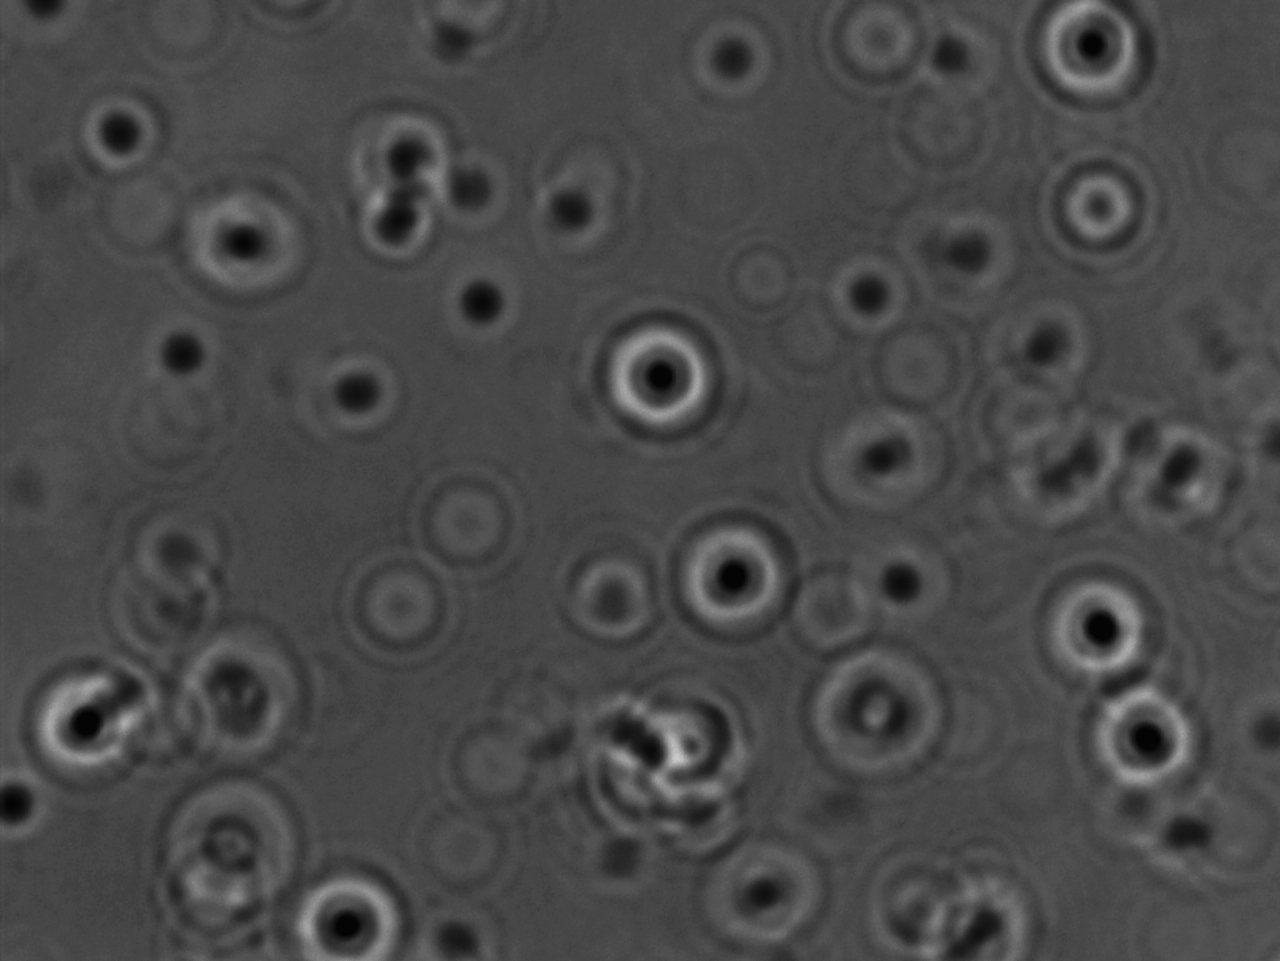depth:-24: (1018, 548, 1165, 693), (651, 503, 793, 652), (1072, 673, 1212, 817), (586, 313, 726, 453), (15, 663, 157, 782), (266, 861, 426, 961)
